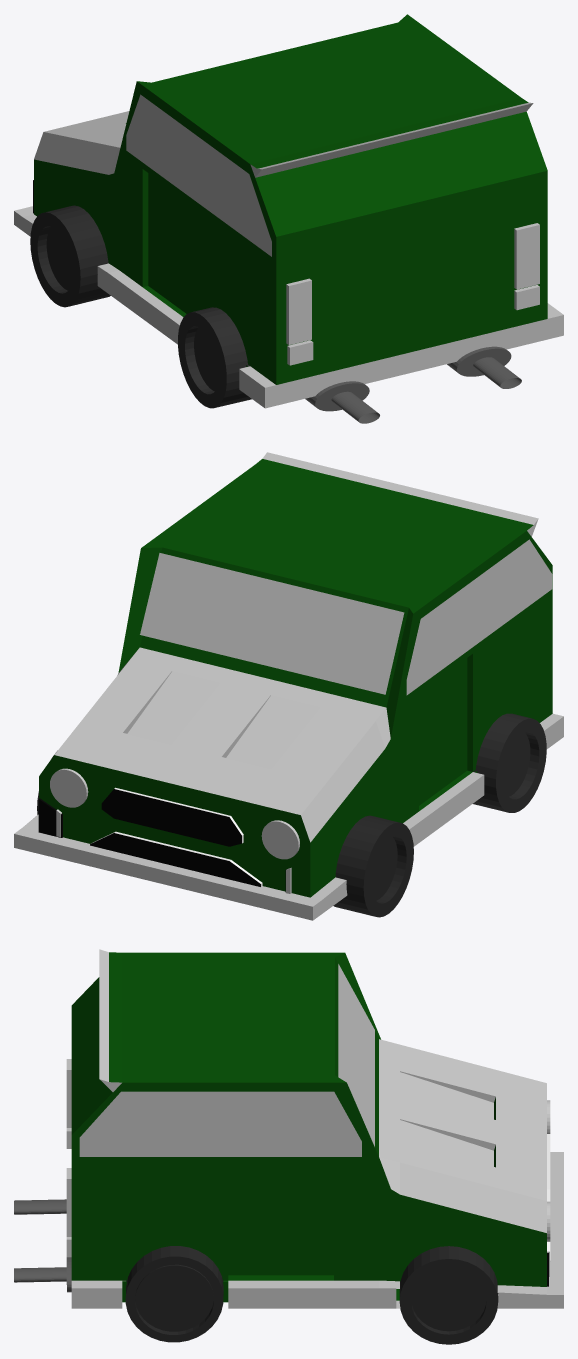
Rendered from car.obj.
3 renders of one model, top to bottom at view 1: azimuth 30°, elevation 25°; view 2: azimuth 150°, elevation 25°; view 3: azimuth 270°, elevation 25°, orthographic. The views are drawn at different scales.
Visible parts, largest first — view 1: Cube.010, Cylinder.003, Cylinder.002, Cylinder.004, Cylinder.005; view 2: Cube.010, Cylinder.003, Cylinder.002; view 3: Cube.010, Cylinder, Cylinder.001, Cylinder.004, Cylinder.005.
Boxes of the visible parts, x1,y1,x2,y2 form: Cube.010: (14, 14, 563, 408); Cylinder.003: (30, 205, 110, 307); Cylinder.002: (178, 307, 251, 408); Cylinder.004: (447, 346, 521, 388); Cylinder.005: (305, 381, 379, 423); Cube.010: (14, 452, 563, 920); Cylinder.003: (333, 815, 413, 917); Cylinder.002: (473, 713, 546, 812); Cube.010: (66, 949, 563, 1308); Cylinder: (399, 1246, 498, 1344); Cylinder.001: (125, 1246, 223, 1342); Cylinder.004: (14, 1257, 125, 1292); Cylinder.005: (14, 1199, 66, 1214).
Bounding box in the file's own units: 0.4118 × 0.311 × 0.6126.
